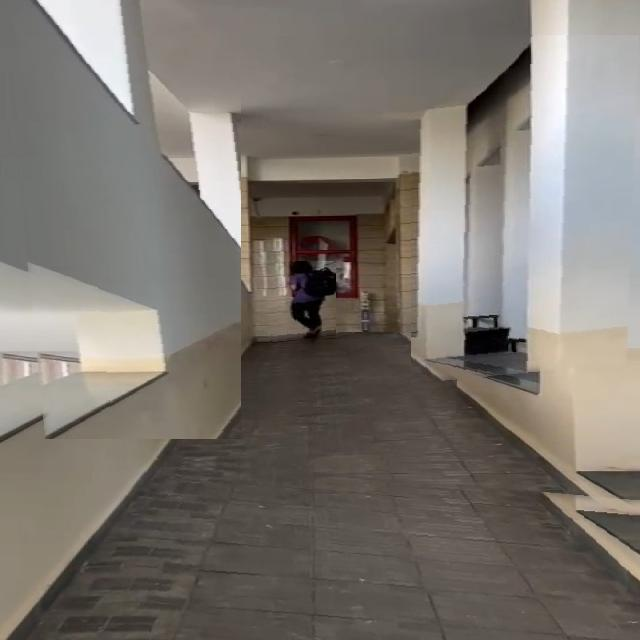floor: (139, 456, 640, 640), (259, 332, 460, 468)
moving_object: (270, 261, 336, 344)
wall: (0, 0, 241, 439), (411, 35, 640, 385)
